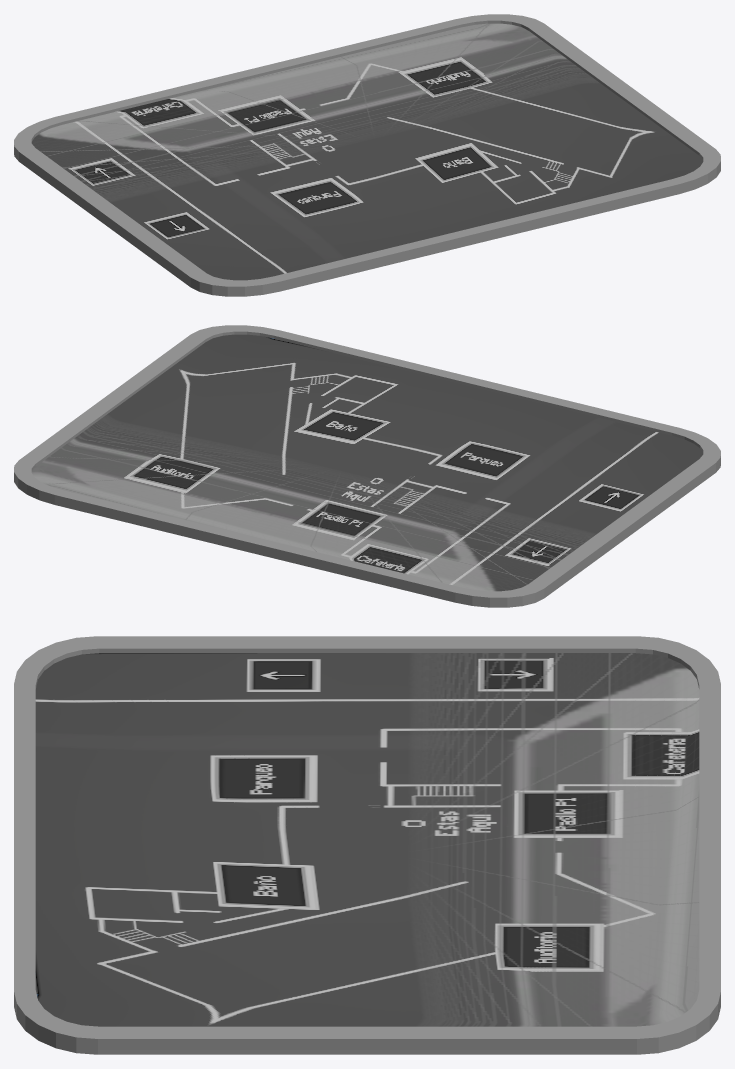
File: Tablet.fbx
The picture shows the model from 3 angles, top to bottom: view 1: azimuth 30°, elevation 25°; view 2: azimuth 150°, elevation 25°; view 3: azimuth 270°, elevation 25°; orthographic projection. The views are drawn at different scales.
Parts seen in each view (by area): view 1: TabletCamara; view 2: TabletCamara; view 3: TabletCamara.
Part boxes in pixels (box(x1,y1,x2,y2)): TabletCamara: box(14, 14, 720, 296); TabletCamara: box(14, 325, 720, 607); TabletCamara: box(14, 636, 720, 1054).
Size of the model in its own units: 2.96 by 0.054 by 2.2.
2 materials, 1 textured.
